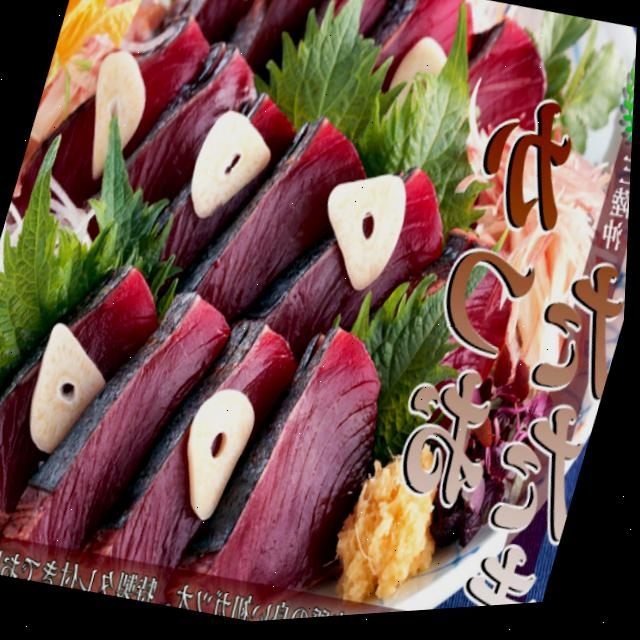熟制海鲜: (95, 0, 640, 624)
